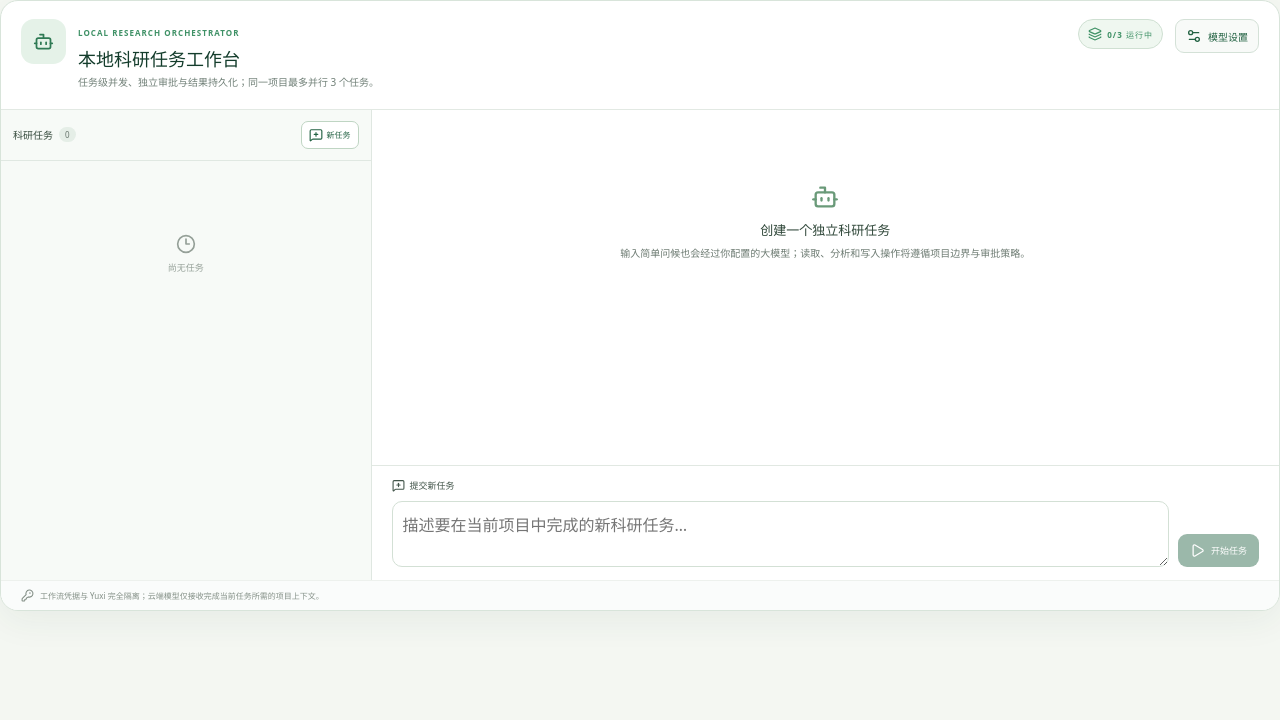
Scenario: WorkflowAgentPanel › 模型鉴权失败时结束思考状态并在页面明确显示错误
Type "分析本地 CSV" into the text box with placeholder "描述要在当前项目中完成的新科研任务…" at (780, 534), box [392, 500, 1169, 566]
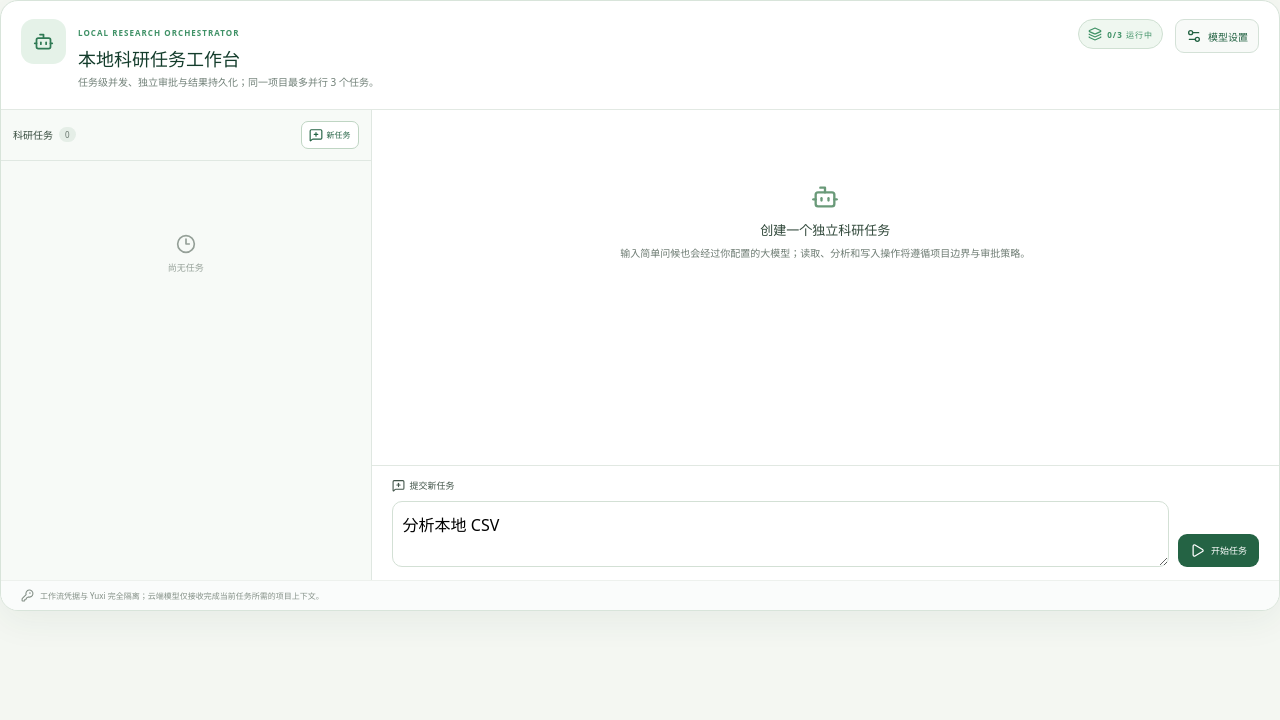
Click the button "开始任务" at (1218, 550), box [1178, 534, 1259, 566]
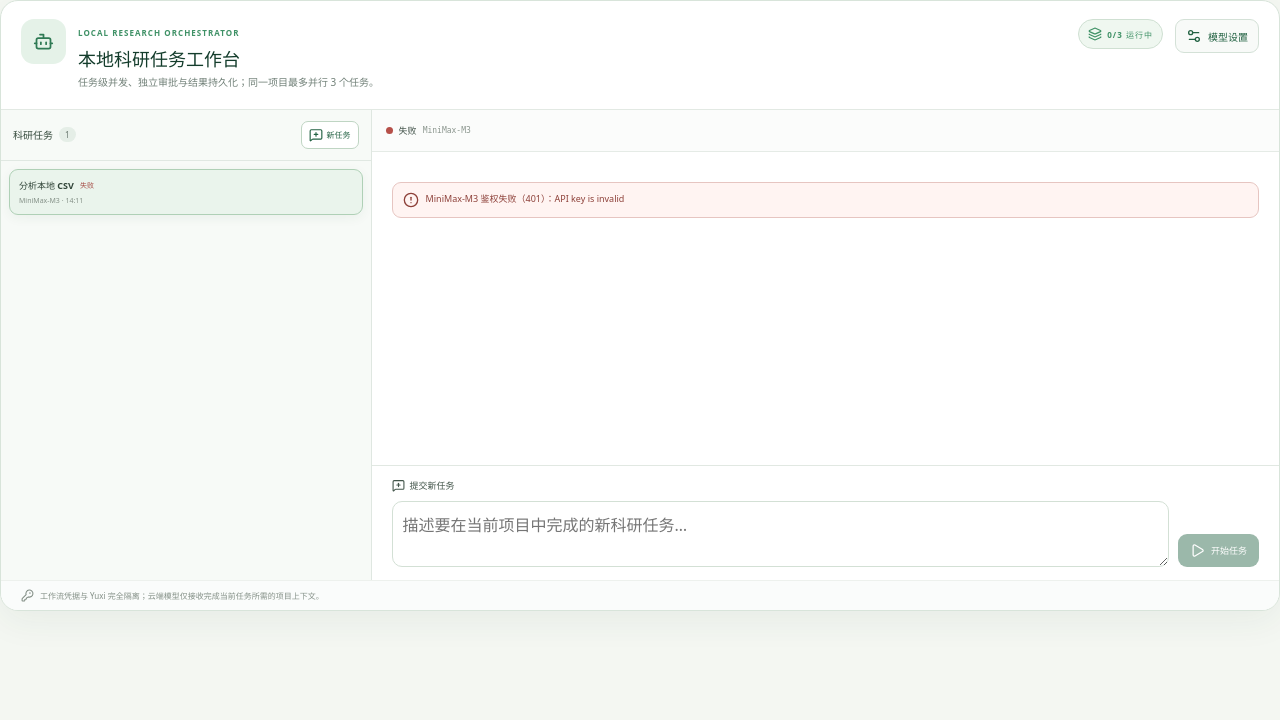
Result: the text "MiniMax-M3 鉴权失败（401）：API key is invalid" is shown at [426, 192, 624, 205]
Result: the button "开始任务" is disabled at [1178, 534, 1259, 566]
Type "使用正确凭据重新分析" into the text box with placeholder "描述要在当前项目中完成的新科研任务…" at (780, 534), box [392, 500, 1169, 566]
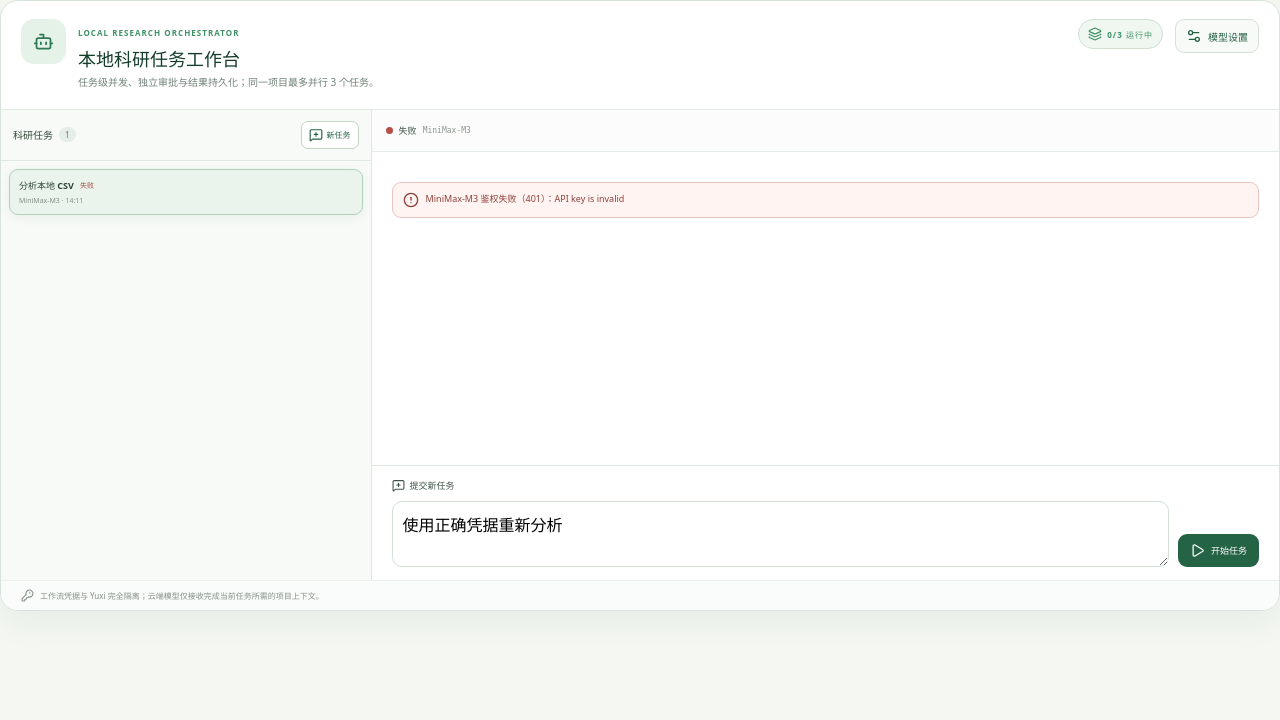
Result: the button "开始任务" is enabled at [1178, 534, 1259, 566]
